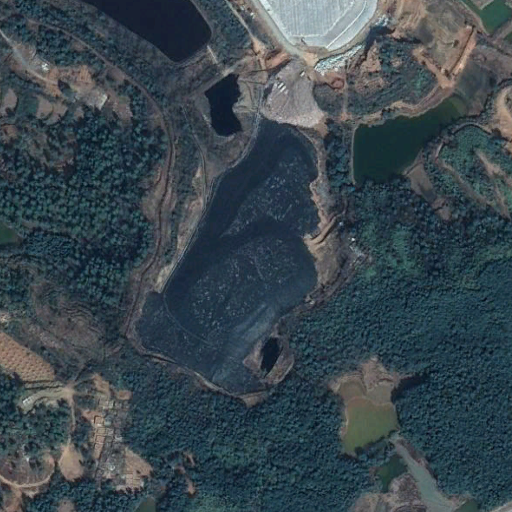lf: (129, 115, 320, 396)
